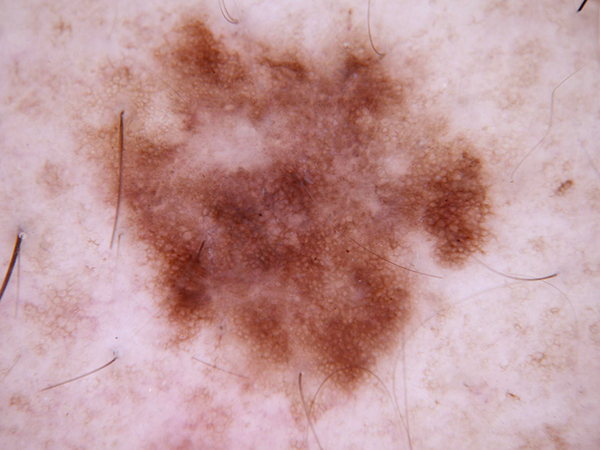Detected Lesion: (82, 21, 494, 413)
